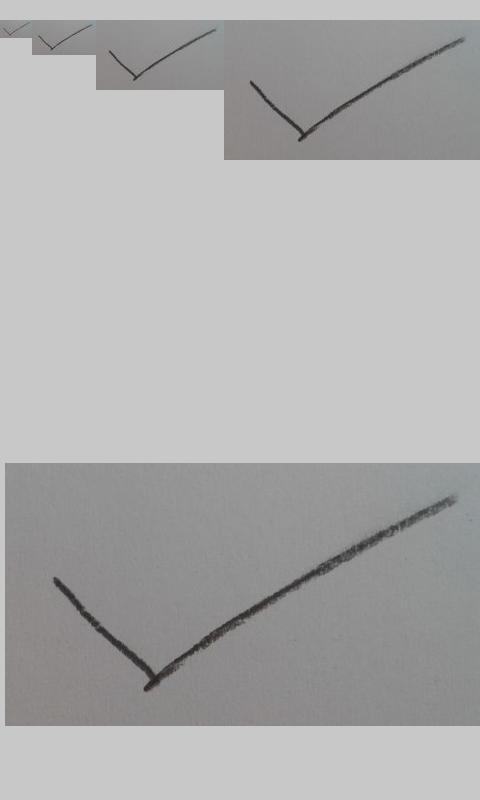check_box: (52, 497, 454, 690), (250, 38, 465, 140), (108, 29, 216, 80), (38, 25, 92, 50), (3, 22, 30, 36)
